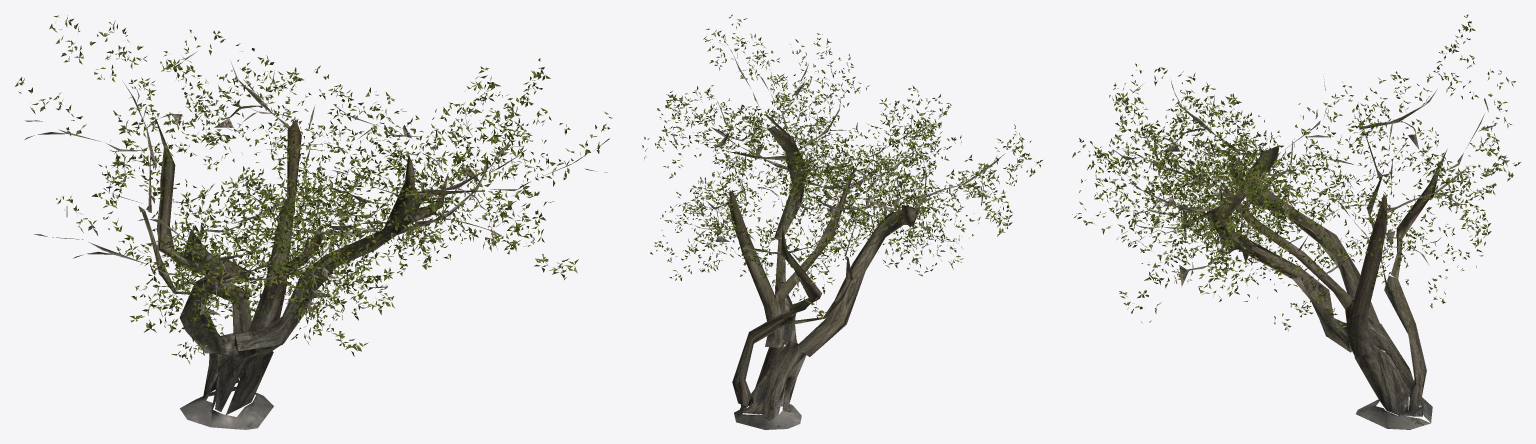
Rendered from tree_big_b.glb.
The picture shows the model from 3 angles, left to right: view 1: azimuth 30°, elevation 25°; view 2: azimuth 150°, elevation 25°; view 3: azimuth 270°, elevation 25°; orthographic projection. The views are drawn at different scales.
Visible parts, largest first — view 1: island_tree_02_LOD0; view 2: island_tree_02_LOD0; view 3: island_tree_02_LOD0.
Boxes of the visible parts, x1,y1,x2,y2 form: island_tree_02_LOD0: (15,15,612,429); island_tree_02_LOD0: (642,14,1042,429); island_tree_02_LOD0: (1072,14,1520,429).
Bounding box in the file's own units: 4.03 × 3.4 × 4.03.
3 materials, 3 textured.
